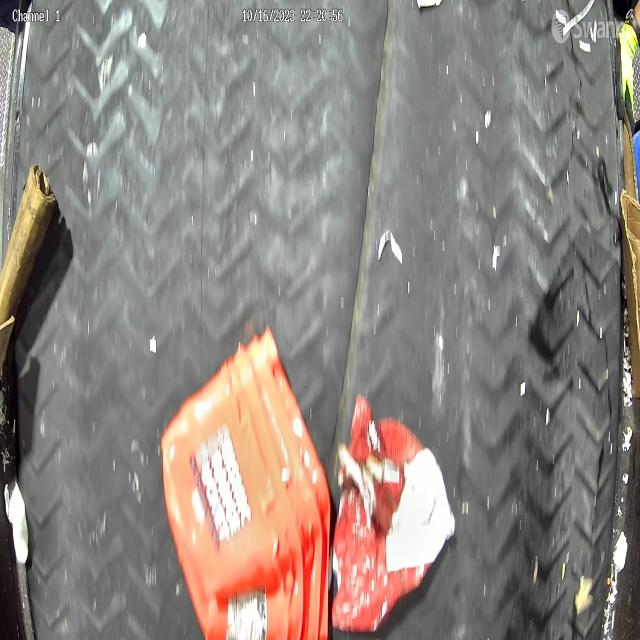non_white_jug: (161, 325, 331, 640)
